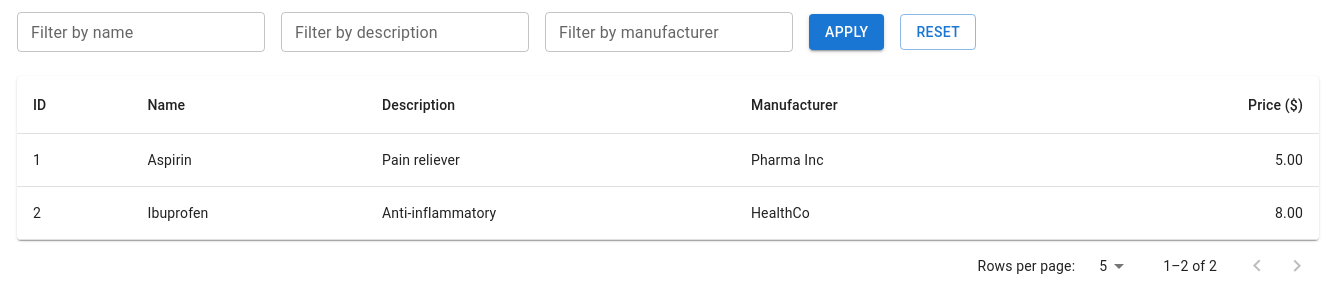
Test: MedicationList Component › applies filters correctly
The width and height of the screenshot is (1337, 291).
Expected: the text "Aspirin" is shown, [131,134,366,187]
Type "Ibuprofen" into the field labelled "Filter by name".
click(141, 32); type("Ibuprofen")  # box [17,12,265,52]
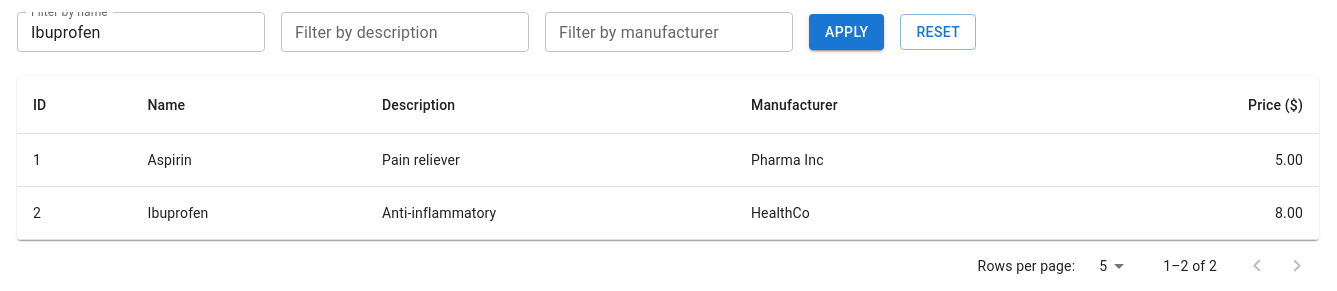
Click the button "Apply".
click(847, 32)  # box [809,14,884,50]
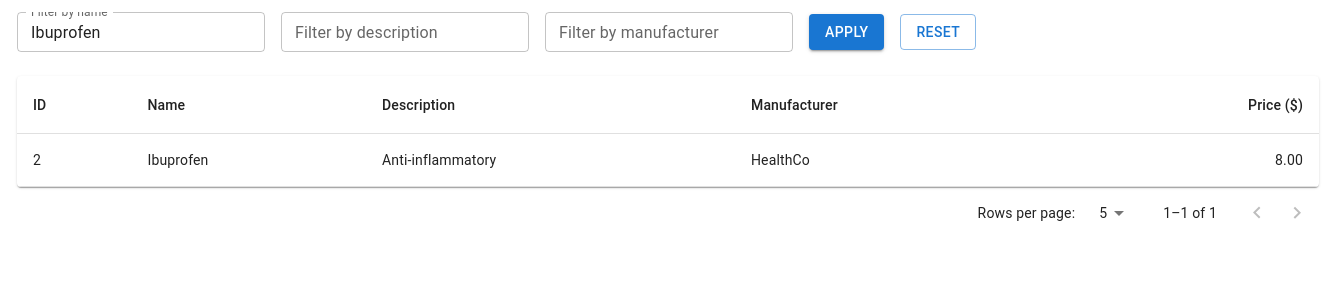
Expected: the text "Ibuprofen" is shown, [131,134,366,187]
Now the text "Aspirin" is gone
